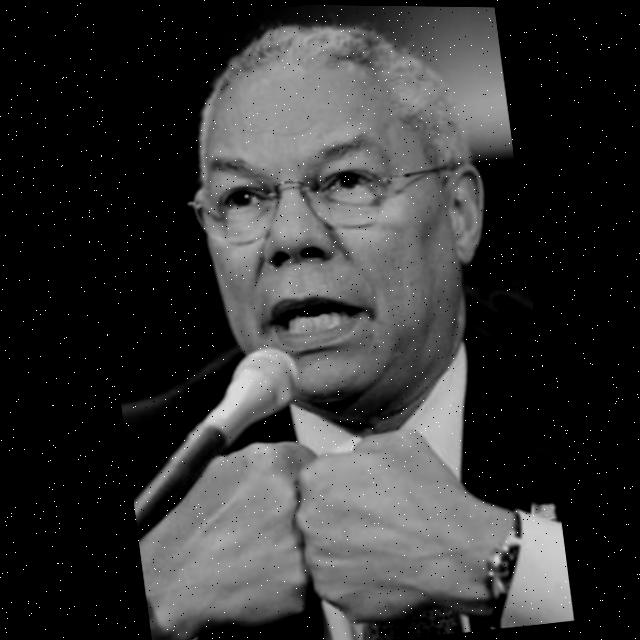face: (154, 6, 521, 443)
